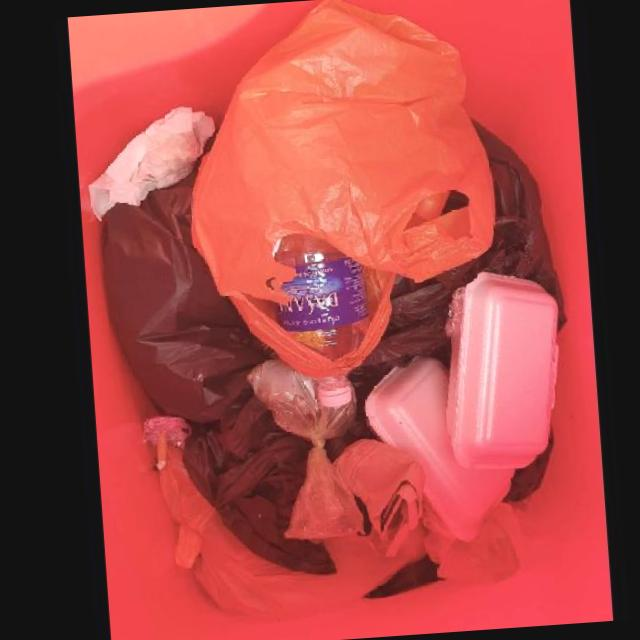chai_nhua_pet: (273, 233, 368, 360)
giay: (87, 105, 215, 220)
tui_ni_long: (190, 0, 495, 375), (245, 357, 364, 539)
xop: (364, 354, 515, 540), (446, 270, 559, 471)
